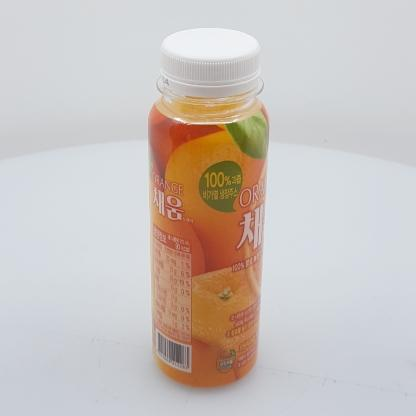--------210ML: (148, 28, 269, 388)
